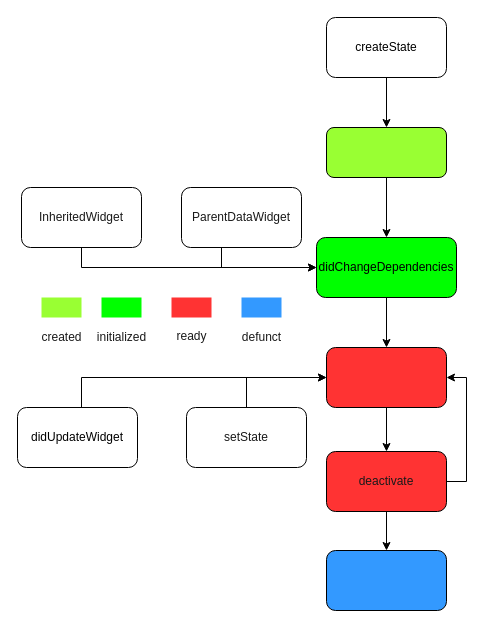
Image size: 492x628. Some labels were removed from this diagram. Here are the shapes that lost their labels. From the top down, the centre of each, then its label:
At (x=386, y=152): "initState".
At (x=386, y=377): "build".
At (x=386, y=580): "dispose".
